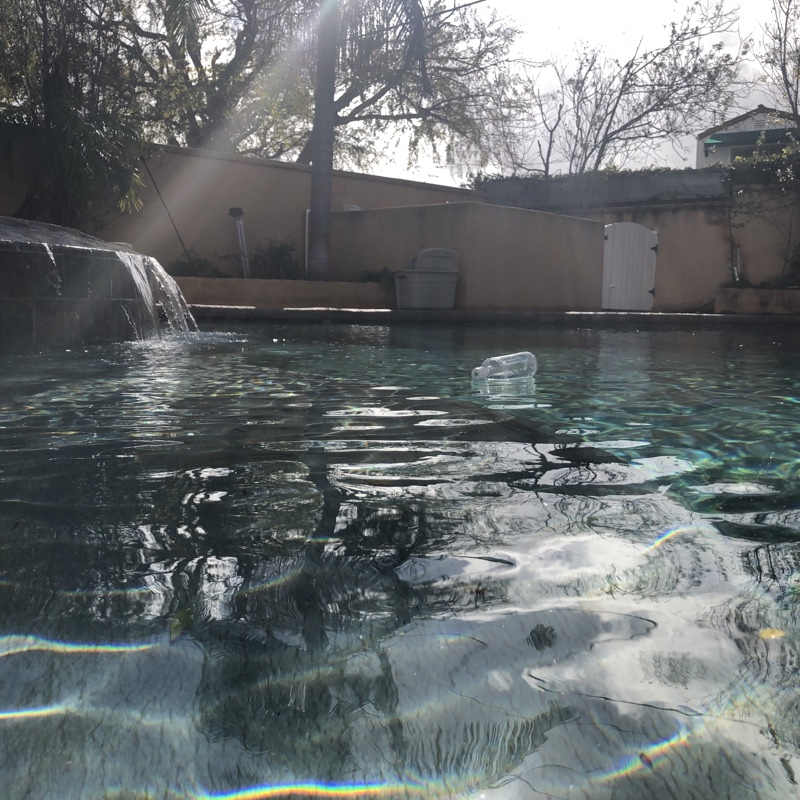Plastic Bottle: (469, 351, 540, 384)
